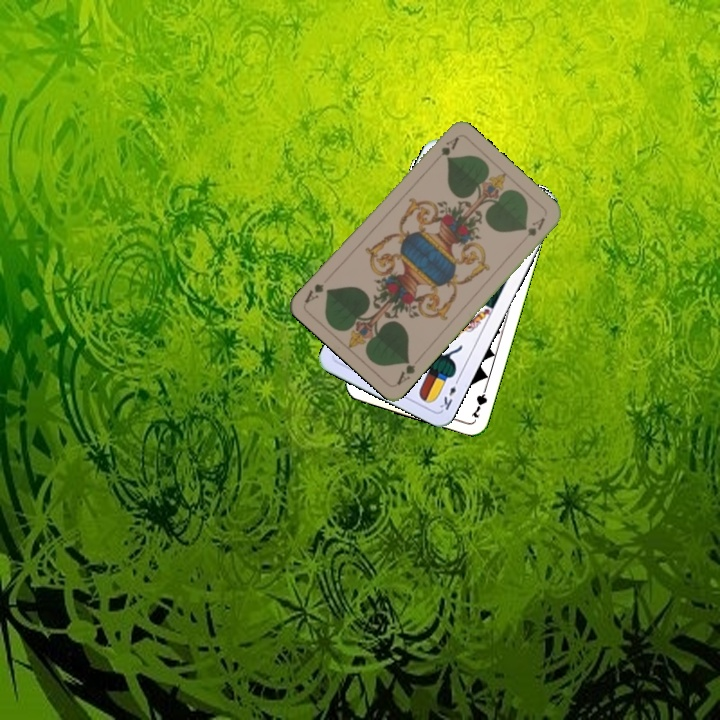EK: (436, 374, 462, 413)
G7: (467, 381, 490, 421)
GA: (392, 355, 418, 388), (437, 133, 462, 158)
